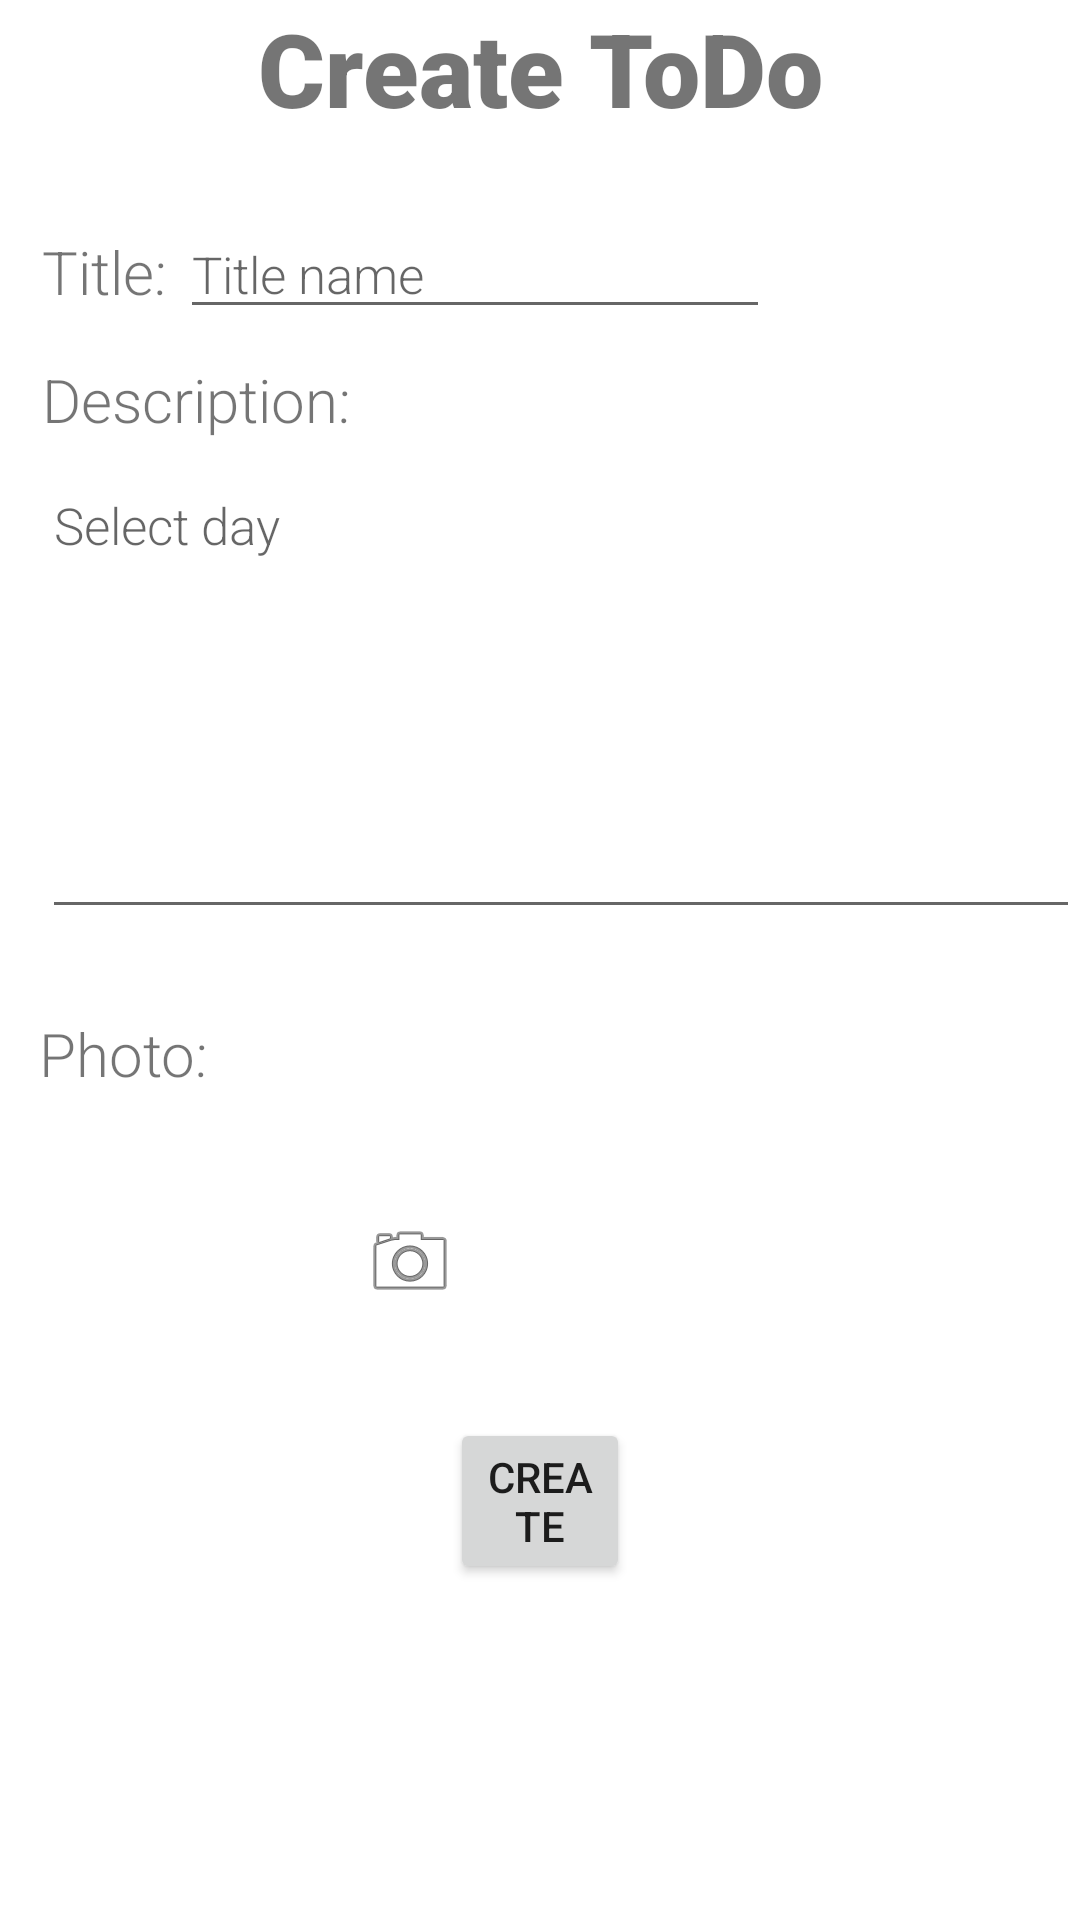

Icons on this 1080 x 1920 Android screen, each with the point to tap as [x,y]:
camera: [410,1260]
